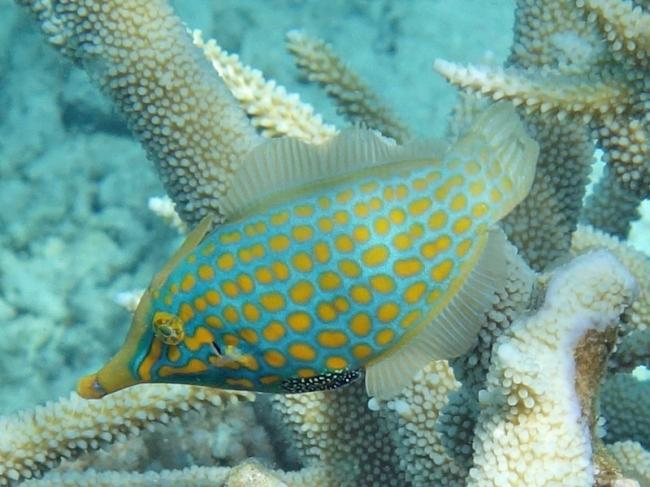fish: (76, 100, 539, 401)
